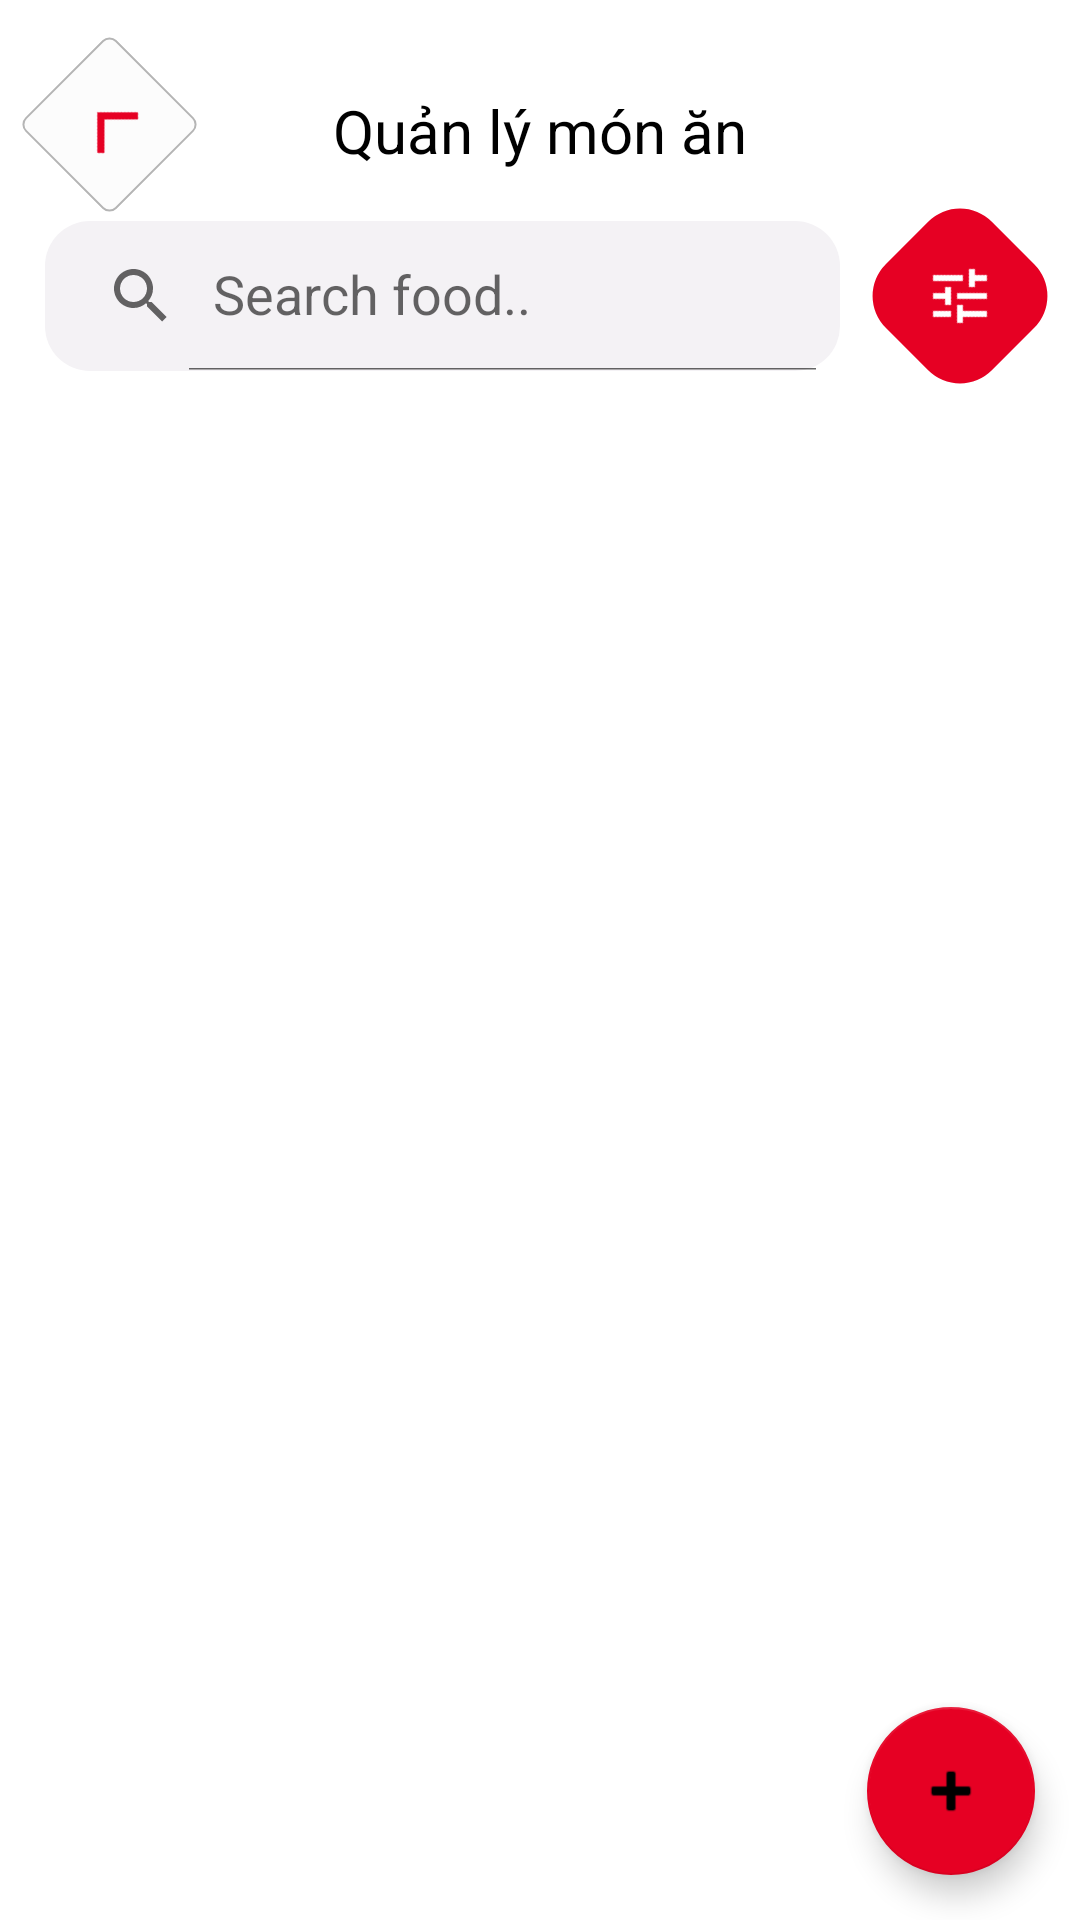

Locate icon controls on the screen. Image size 1080px x 1920px, boxes as box=[x1, y1, x2, y2].
Add food: box=[867, 1707, 1035, 1875]
